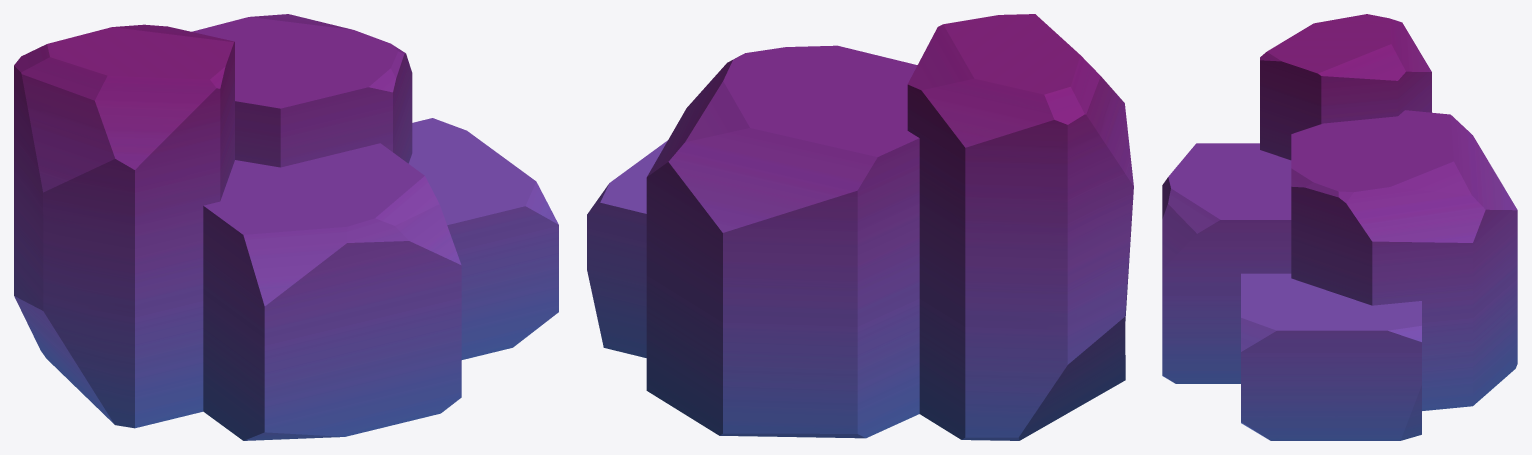
File: rocatopacio_08.fbx
The picture shows the model from 3 angles, left to right: view 1: azimuth 30°, elevation 25°; view 2: azimuth 150°, elevation 25°; view 3: azimuth 270°, elevation 25°; orthographic projection. The views are drawn at different scales.
Visible parts, largest first — view 1: cueva06.001; view 2: cueva06.001; view 3: cueva06.001.
Part boxes in pixels (x1,y1,x2,y2): cueva06.001: [14, 14, 558, 440]; cueva06.001: [587, 14, 1133, 440]; cueva06.001: [1162, 14, 1517, 440].
Size of the model in its own units: 471 by 317 by 393.
Materials: 1 (1 with a texture image).
